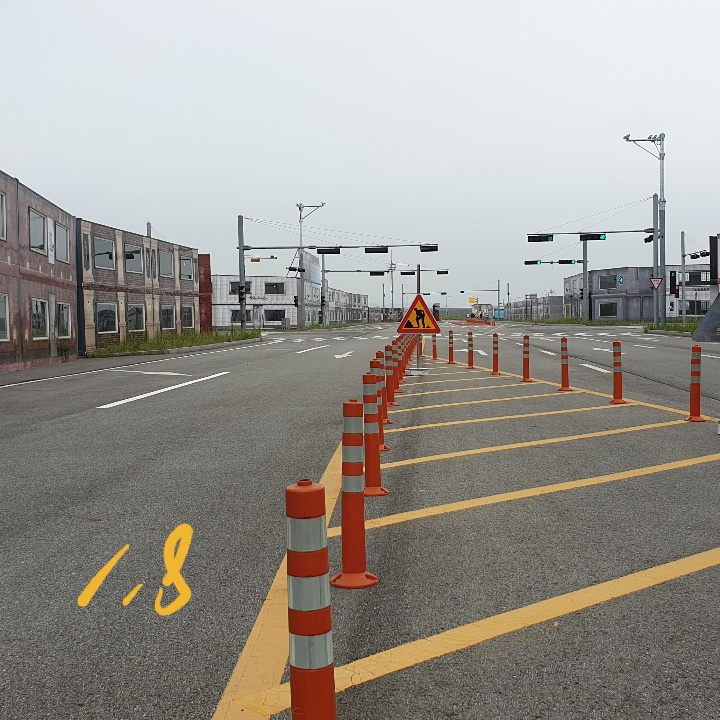const: (402, 300, 435, 329)
